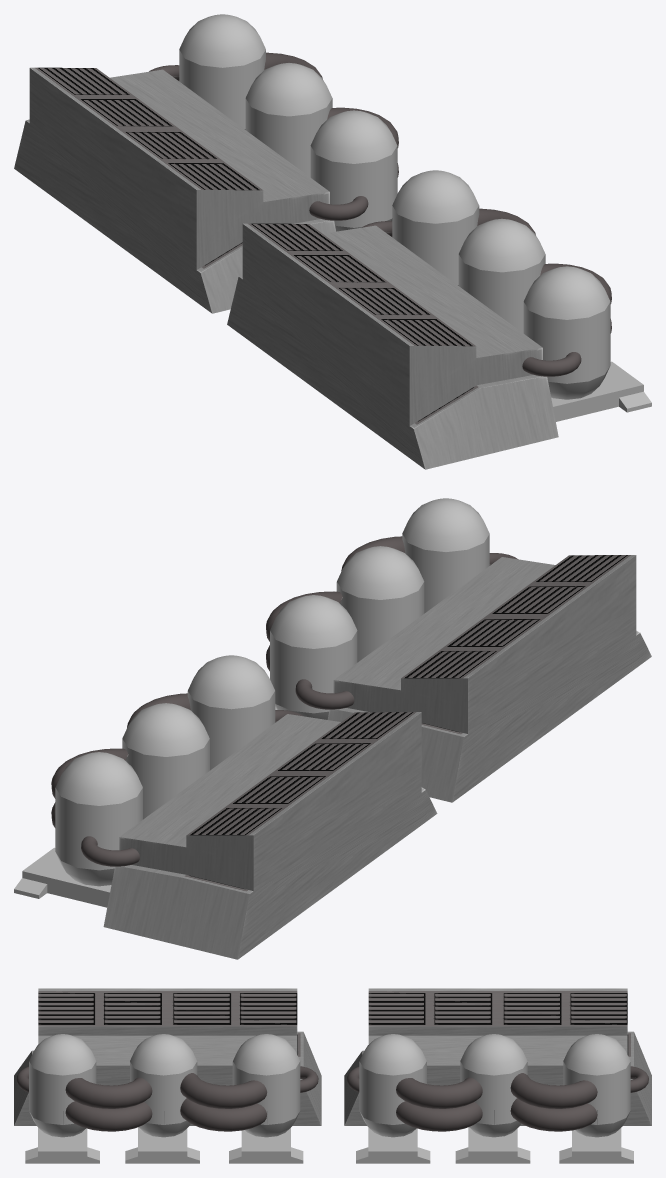
The model's file is OxygenFactory.FBX.
3 renders of one model, top to bottom at view 1: azimuth 30°, elevation 25°; view 2: azimuth 150°, elevation 25°; view 3: azimuth 270°, elevation 25°, orthographic. The views are drawn at different scales.
Parts seen in each view (by area): view 1: OxygenFactory; view 2: OxygenFactory; view 3: OxygenFactory.
Boxes of the visible parts, x1=… form: OxygenFactory: x1=14, y1=14, x2=651, y2=469; OxygenFactory: x1=14, y1=498, x2=651, y2=959; OxygenFactory: x1=14, y1=988, x2=651, y2=1163.
Size of the model in its own units: 112 by 59.93 by 333.
